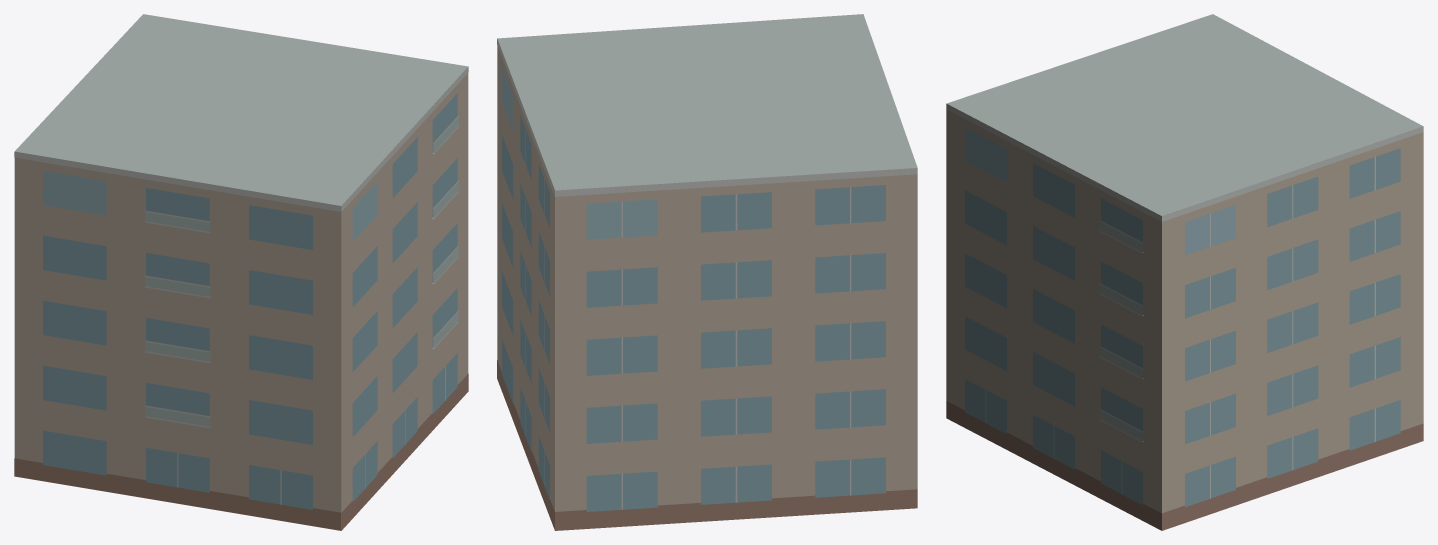
File: survey-upis-32724230.glb
3 views of the same model, side by side, from view 1: azimuth 30°, elevation 25°; view 2: azimuth 150°, elevation 25°; view 3: azimuth 270°, elevation 25° (orthographic). The views are drawn at different scales.
Visible parts, largest first — view 1: survey-upis-32724230.tmp; view 2: survey-upis-32724230.tmp; view 3: survey-upis-32724230.tmp.
Boxes of the visible parts, x1,y1,x2,y2 form: survey-upis-32724230.tmp: [14, 14, 468, 530]; survey-upis-32724230.tmp: [497, 14, 917, 530]; survey-upis-32724230.tmp: [946, 14, 1423, 530].
Bounding box in the file's own units: 18.06 × 13.1 × 18.01.
